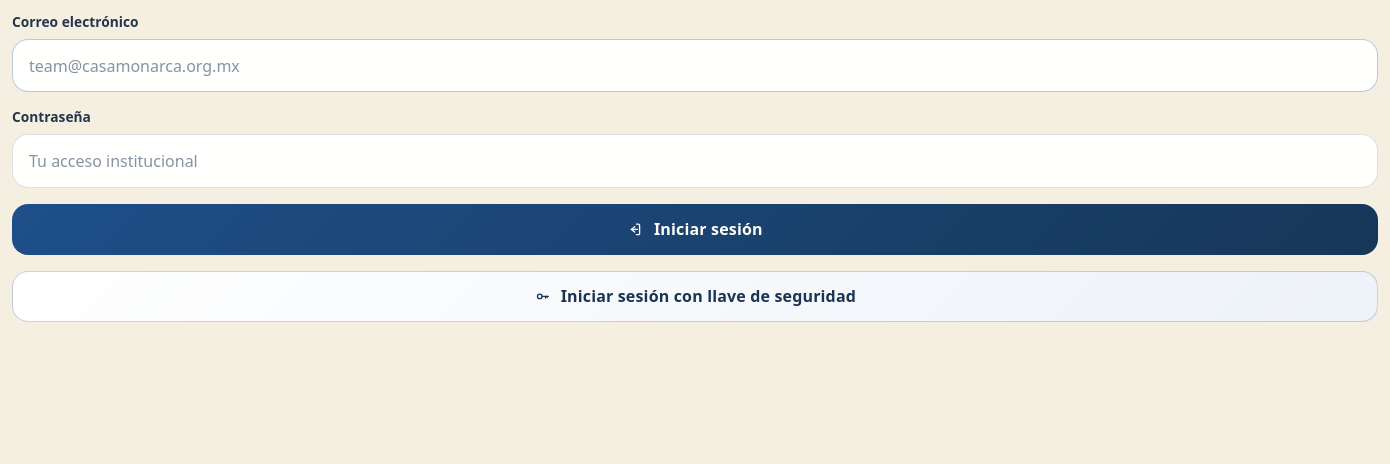
Test case: LoginForm › maps backend field errors to the form
Type "admin@casamonarca.org.mx" into the field labelled "Correo electrónico" at x=695, y=66, box [12,39,1378,92]
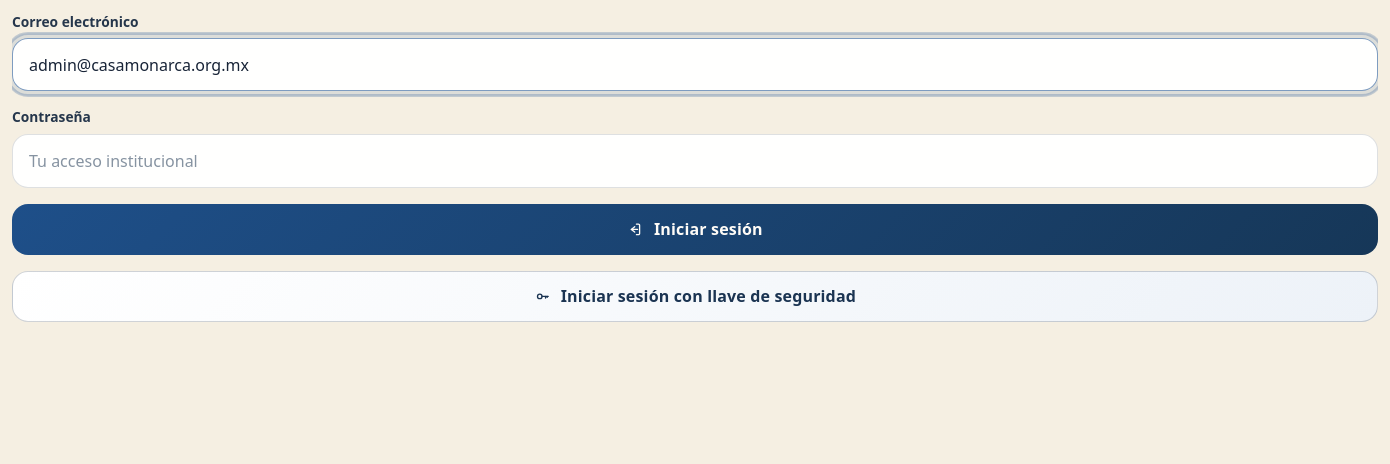
Type "StrongPass#123" into the password field labelled "Contraseña" at x=695, y=161, box [12,134,1378,188]
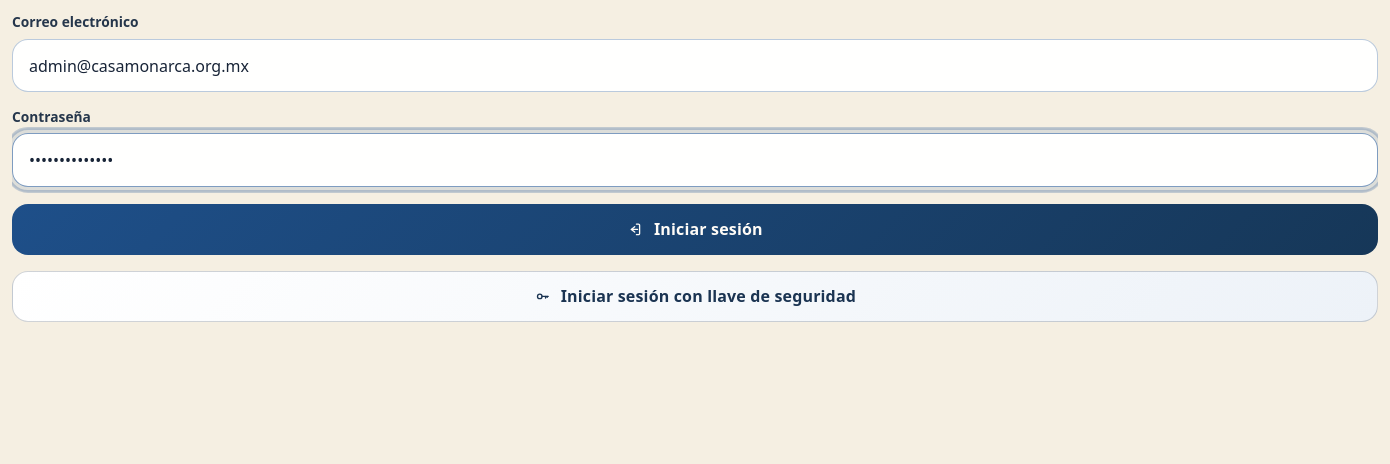
Click the button "Iniciar sesión" at x=695, y=229, box [12,204,1378,255]
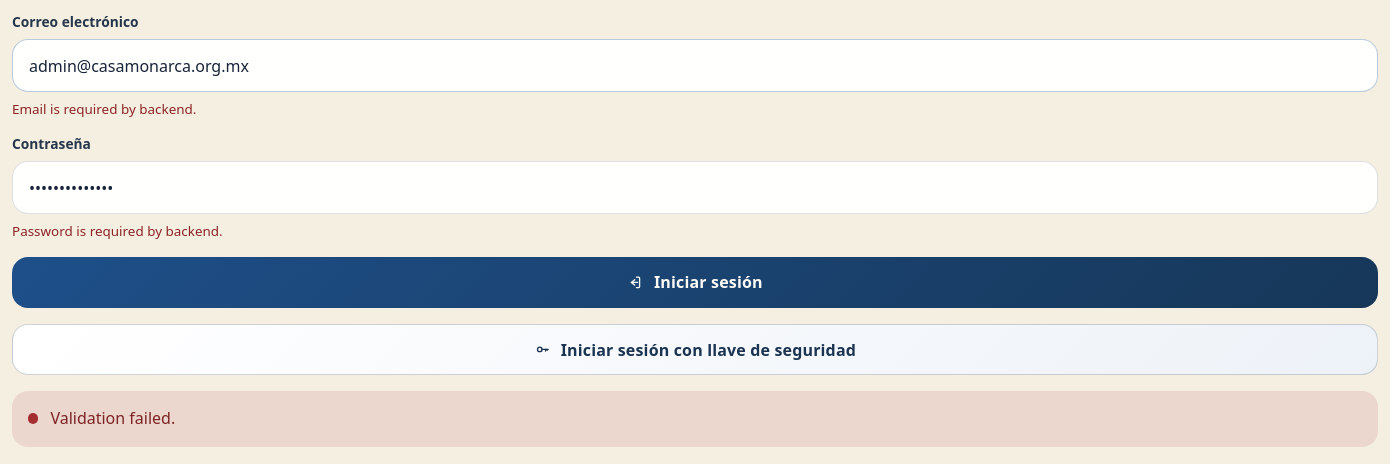
Check: the text "Email is required by backend." is shown, box [12,100,196,118]
Check: the text "Password is required by backend." is shown, box [12,222,223,240]
Check: the text "Validation failed." is shown, box [12,391,1378,447]
